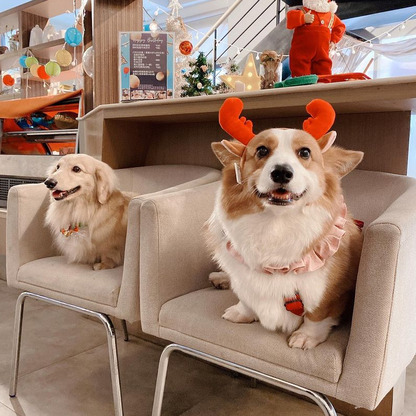Corgi: (207, 133, 372, 351)
